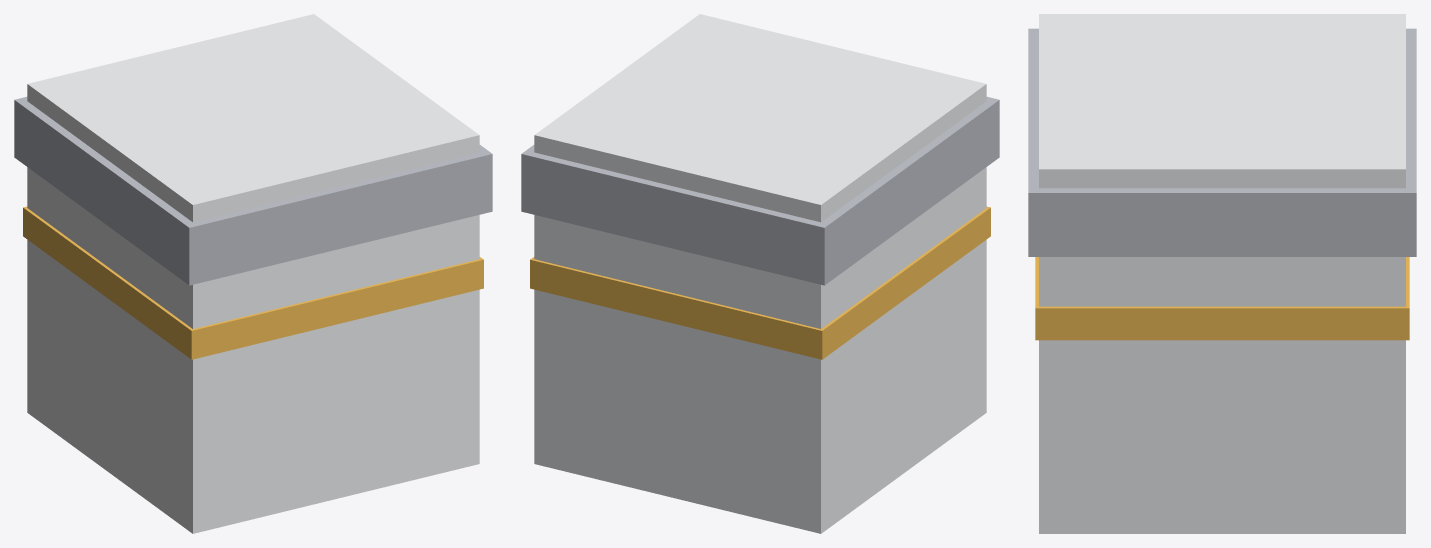
The model's file is astronauta_canela.glb.
The picture shows the model from 3 angles, left to right: view 1: azimuth 30°, elevation 25°; view 2: azimuth 150°, elevation 25°; view 3: azimuth 270°, elevation 25°; orthographic projection. The views are drawn at different scales.
Visible parts, largest first — view 1: astronauta_canela; view 2: astronauta_canela; view 3: astronauta_canela.
Boxes of the visible parts, left/top/right/bottom form: astronauta_canela: left=14, top=14, right=492, bottom=533; astronauta_canela: left=521, top=14, right=999, bottom=533; astronauta_canela: left=1028, top=14, right=1416, bottom=533.
Size of the model in its own units: 0.275 by 0.285 by 0.275.
